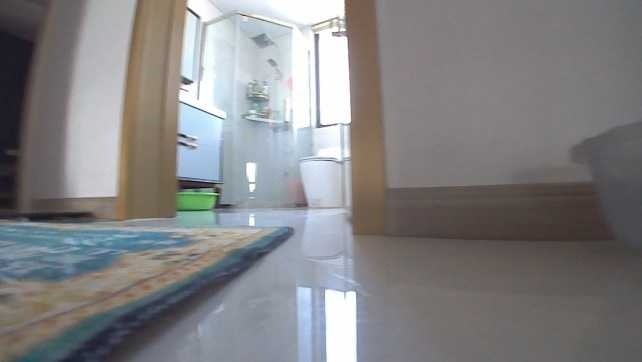blanket: (2, 210, 293, 360)
toilet: (295, 144, 342, 209)
